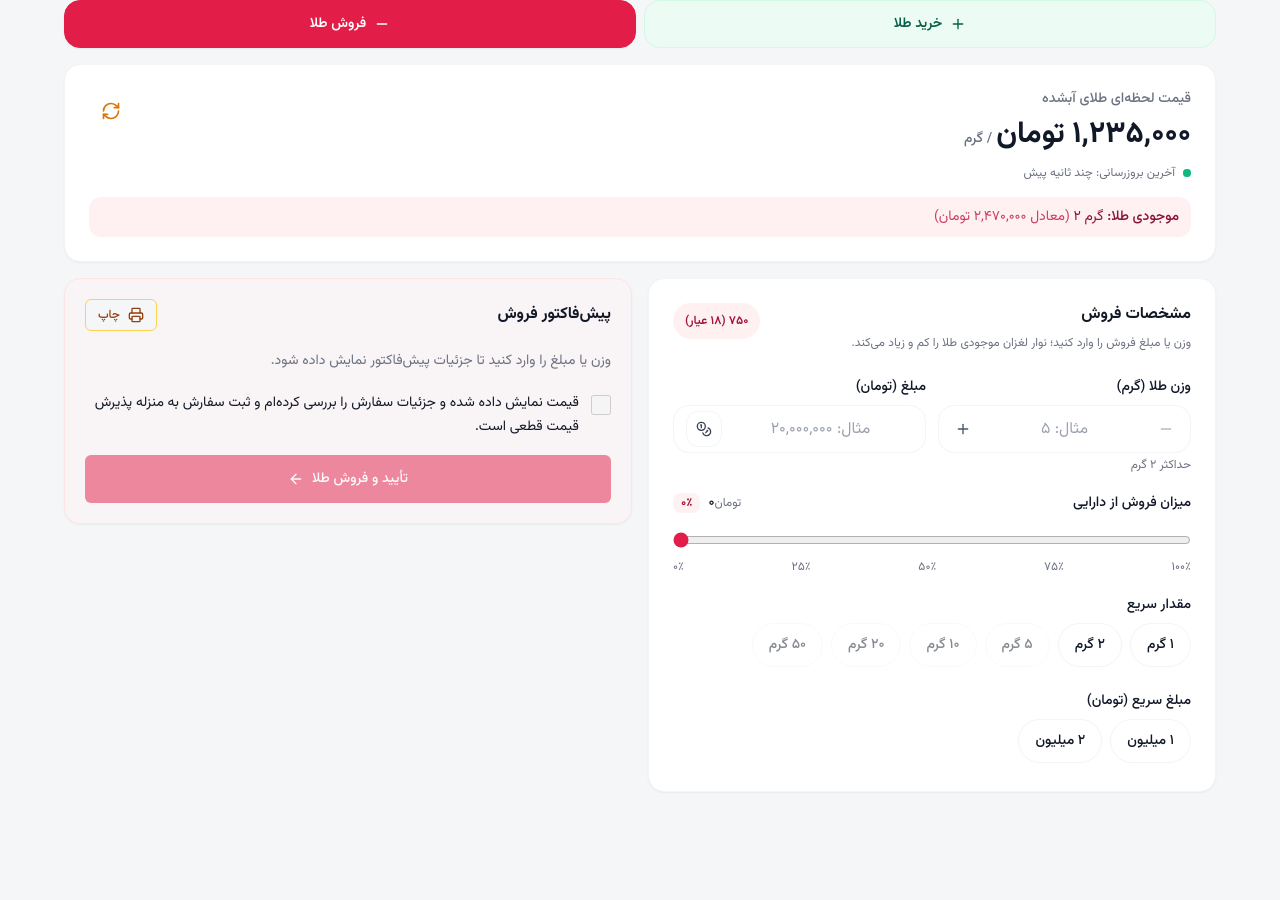
Scenario: BuyGoldPage › lets the seller pick their gold holding and caps typed weight to it
This screenshot has width=1280, height=900.
Expected: the text "موجودی طلا:" is shown, top-left (1107, 206), bottom-right (1179, 228)
Expected: the button "۲ گرم" is enabled, top-left (1058, 623), bottom-right (1122, 667)
Type "۵" into the field labelled "وزن طلا (گرم)" at (1064, 429), box top-left (985, 406), bottom-right (1144, 452)
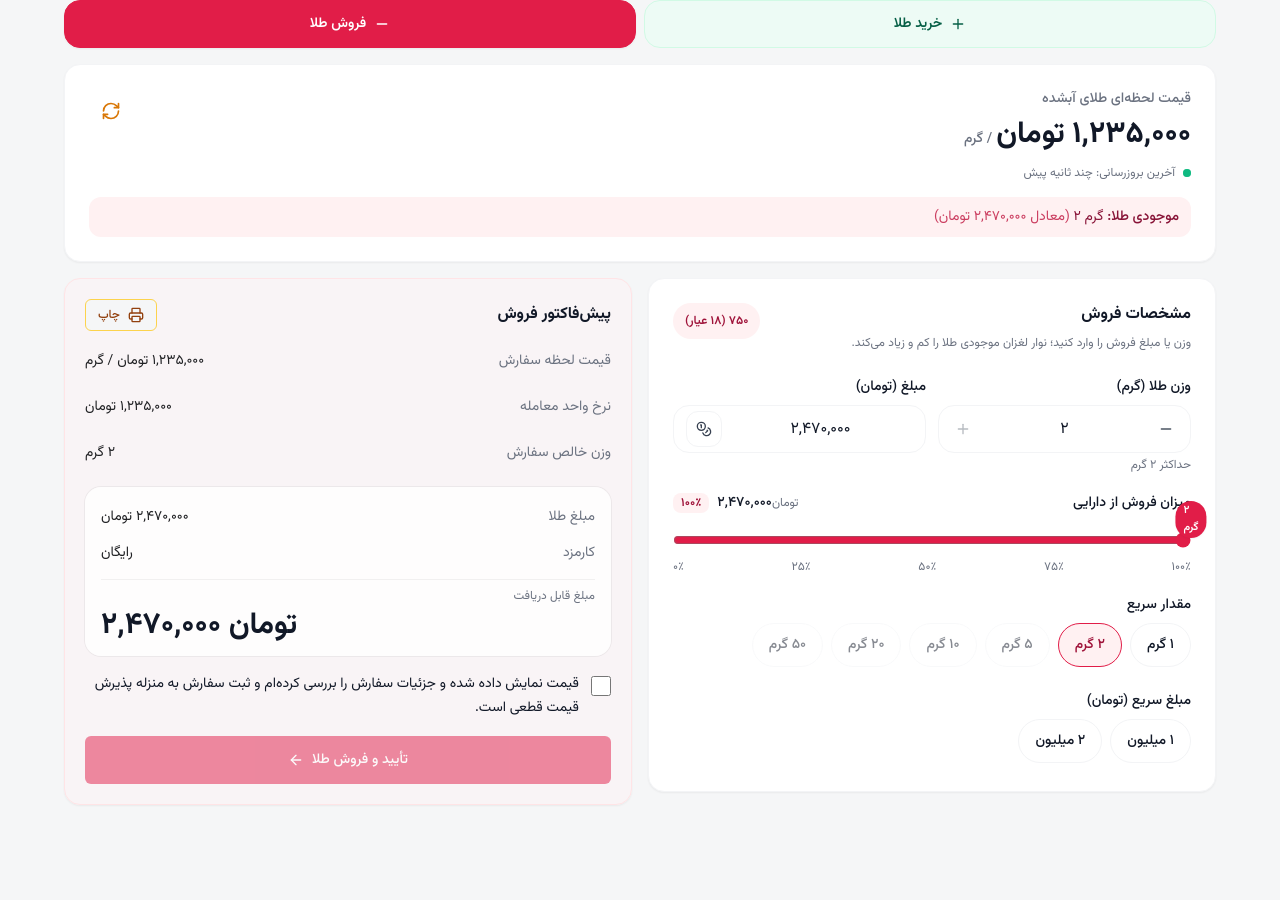
Now the field showing "۲" is shown, box top-left (985, 406), bottom-right (1144, 452)
Now the text "مبلغ قابل دریافت" is shown, box top-left (513, 587), bottom-right (595, 605)
